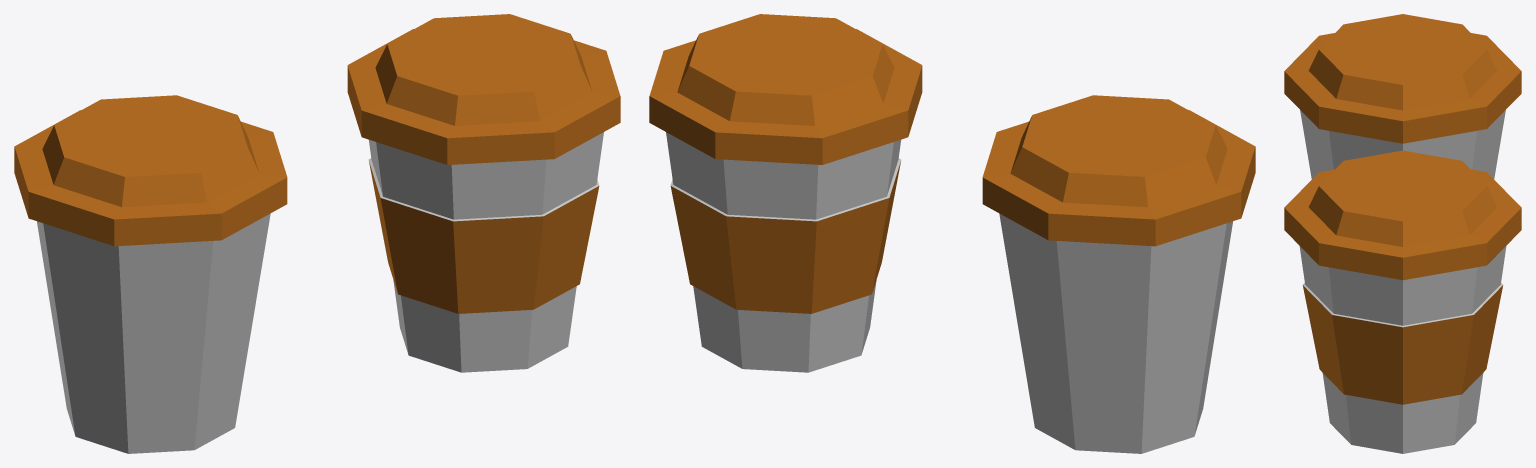
File: cup.fbx
3 views of the same model, side by side, from view 1: azimuth 30°, elevation 25°; view 2: azimuth 150°, elevation 25°; view 3: azimuth 270°, elevation 25° (orthographic). The views are drawn at different scales.
Visible parts, largest first — view 1: Cylinder.032, Cylinder.030; view 2: Cylinder.032, Cylinder.030; view 3: Cylinder.032, Cylinder.030.
Boxes of the visible parts, x1,y1,x2,y2 form: Cylinder.032: (347,14,620,372); Cylinder.030: (14,95,287,453); Cylinder.032: (649,14,922,372); Cylinder.030: (982,95,1255,453); Cylinder.032: (1284,150,1521,453); Cylinder.030: (1284,14,1521,179).
Size of the model in its own units: 35.34 by 16.5 by 14.97.
